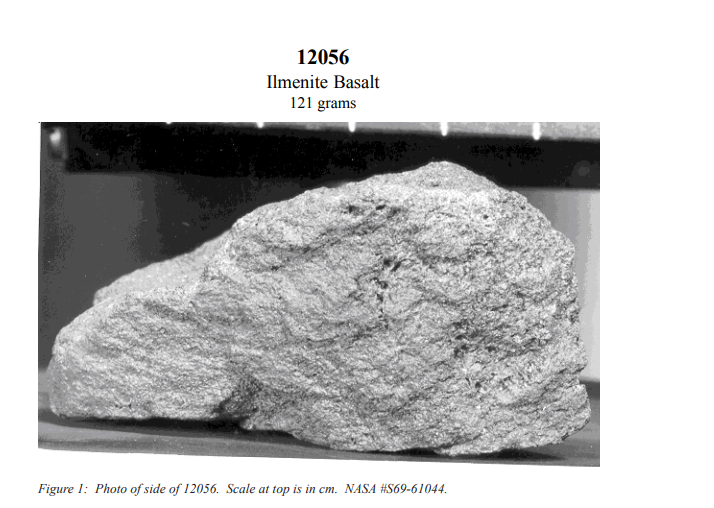Basalt: (42, 166, 593, 451), (218, 290, 553, 418)
